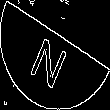N_NE: (32, 24, 78, 86)
